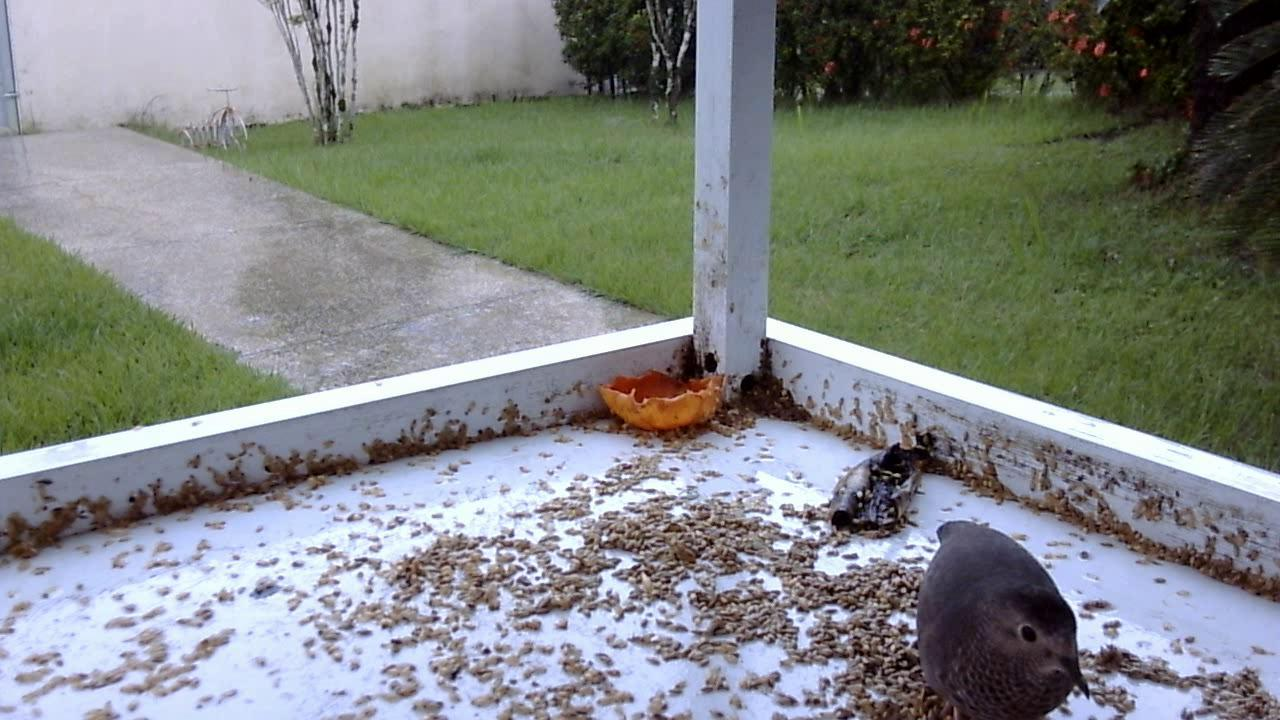rolinha: (903, 513, 1112, 715)
